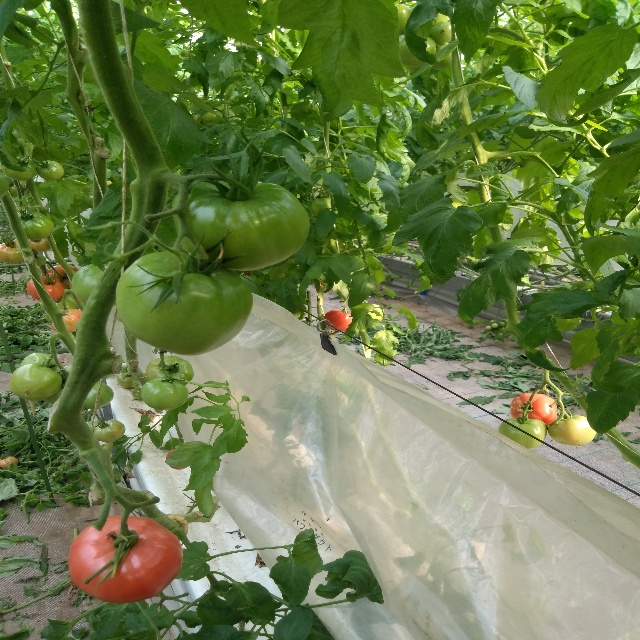b_fully_ripened: (69, 515, 185, 604), (510, 393, 558, 425), (27, 275, 65, 302), (323, 309, 354, 331)
b_green: (116, 250, 253, 356), (173, 179, 310, 272), (71, 263, 122, 308), (8, 363, 62, 401), (140, 378, 189, 410), (498, 417, 547, 448), (548, 415, 597, 446), (146, 355, 194, 386), (18, 211, 54, 239), (82, 382, 114, 410), (2, 157, 37, 181), (94, 419, 125, 443), (19, 353, 59, 370), (36, 160, 64, 180), (0, 172, 9, 199), (34, 254, 47, 266)
b_half_ripened: (45, 264, 79, 290), (51, 310, 83, 334), (1, 238, 25, 263), (28, 237, 52, 252)
